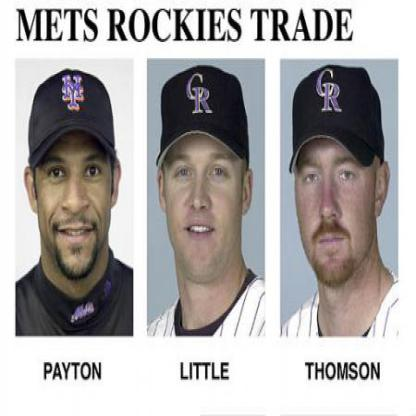face: (294, 69, 378, 288), (165, 71, 246, 284), (36, 70, 113, 283)
